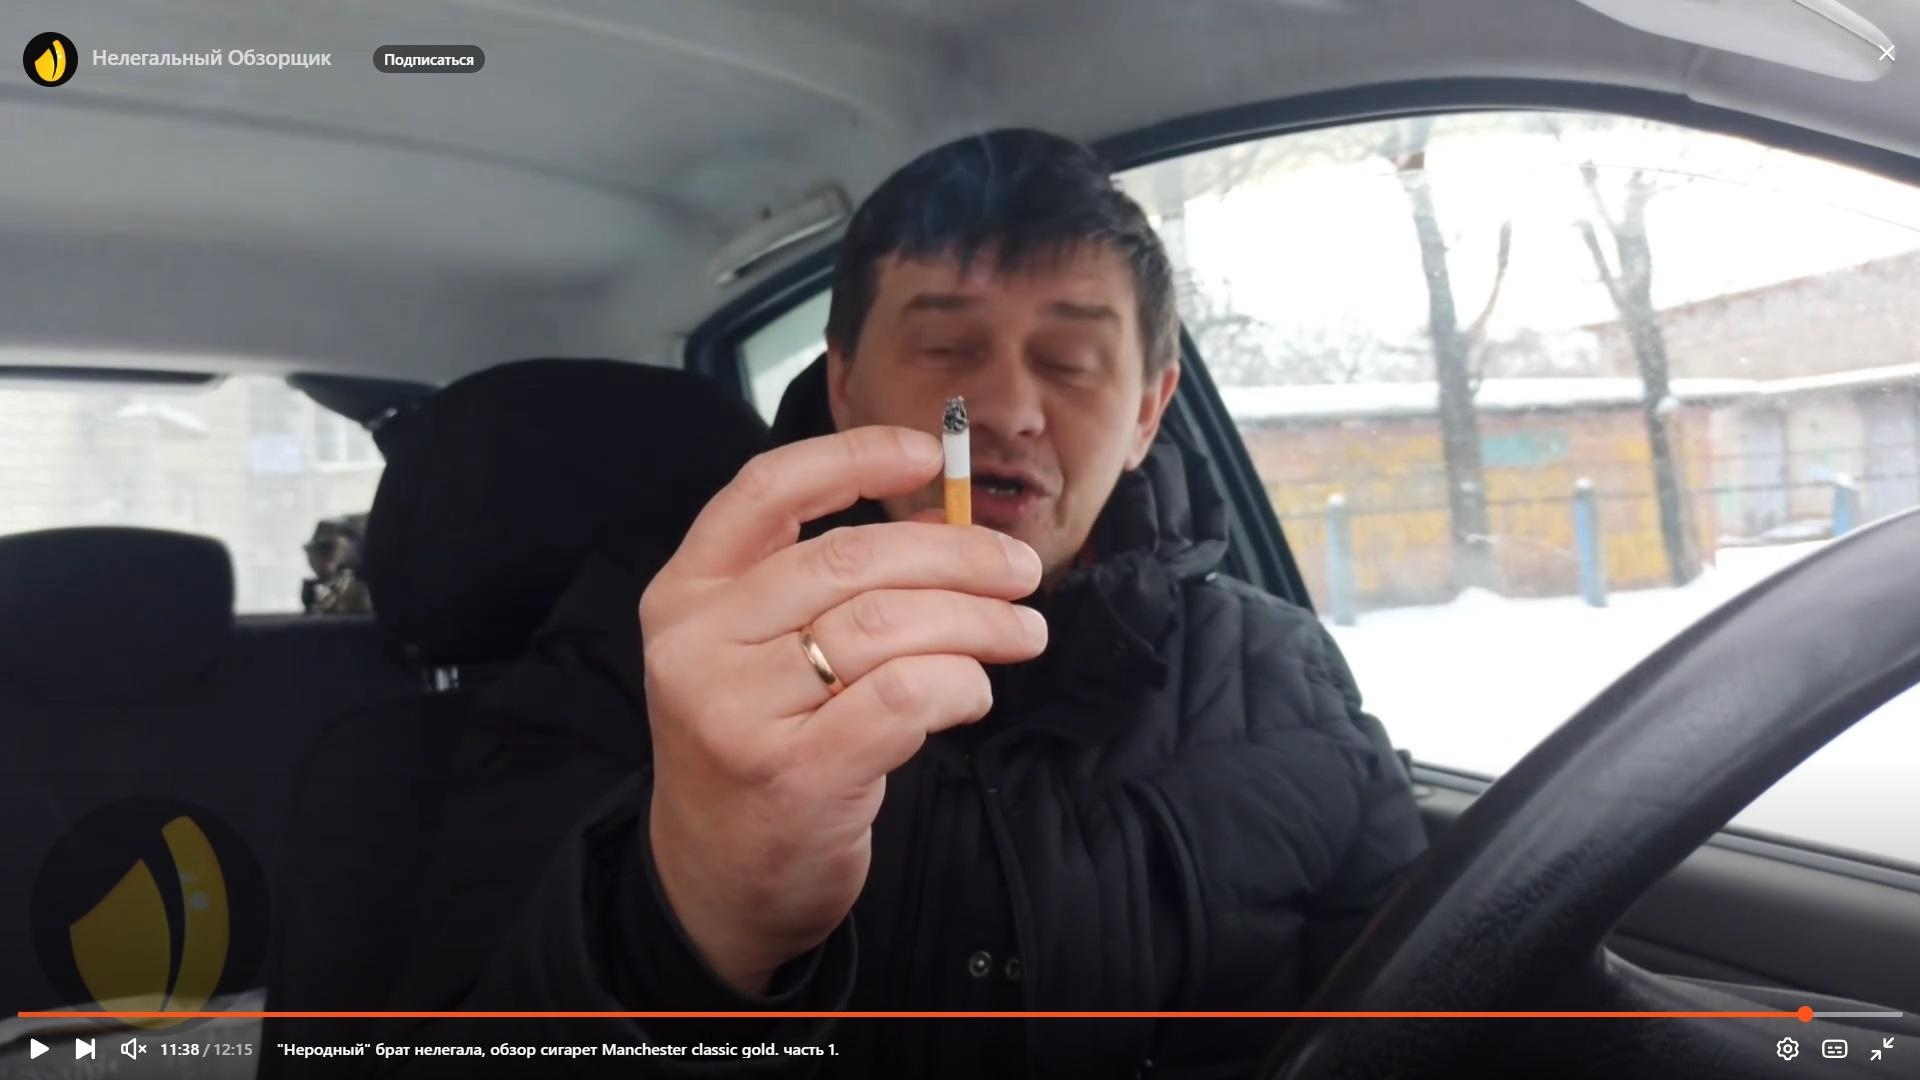cigarette: (942, 396, 972, 525)
